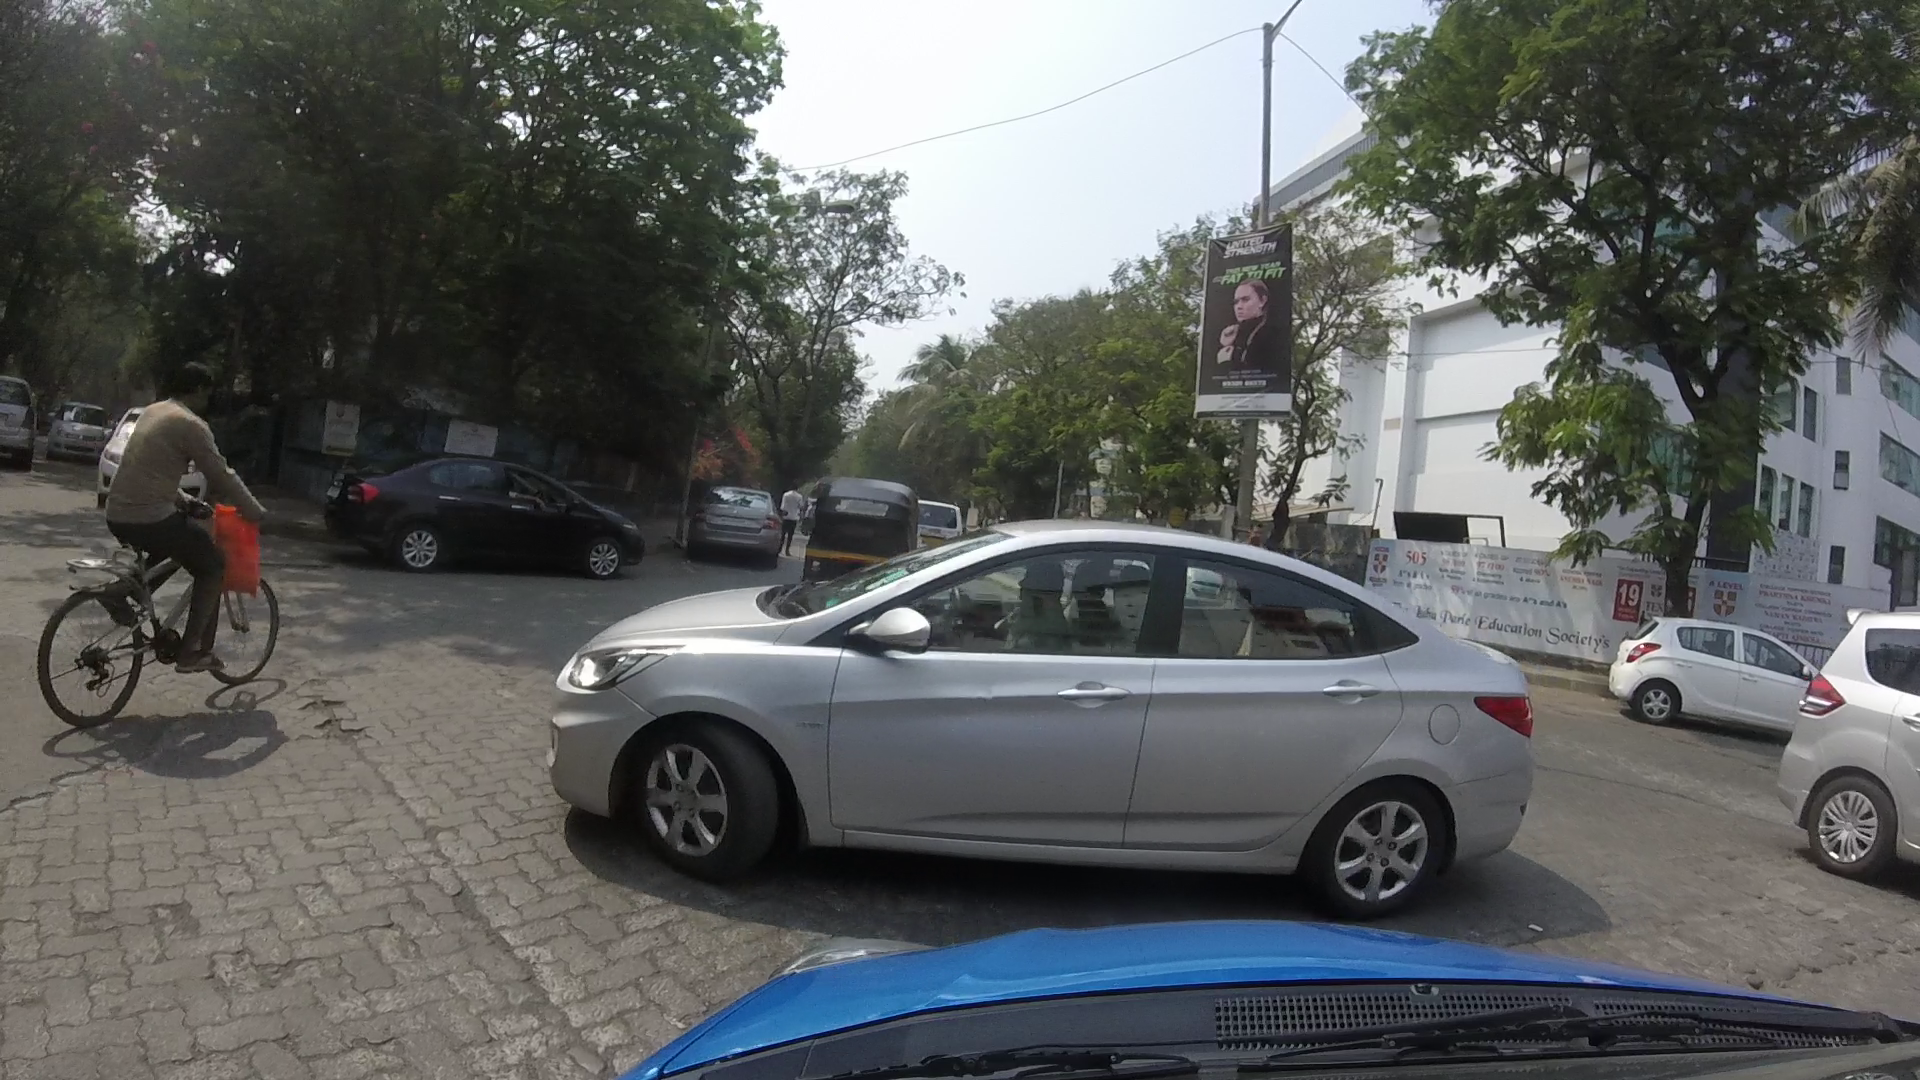car: (553, 510, 1531, 916), (1775, 597, 1920, 886), (331, 458, 628, 595), (1615, 589, 1813, 745)
rickshaw: (808, 469, 895, 574)
